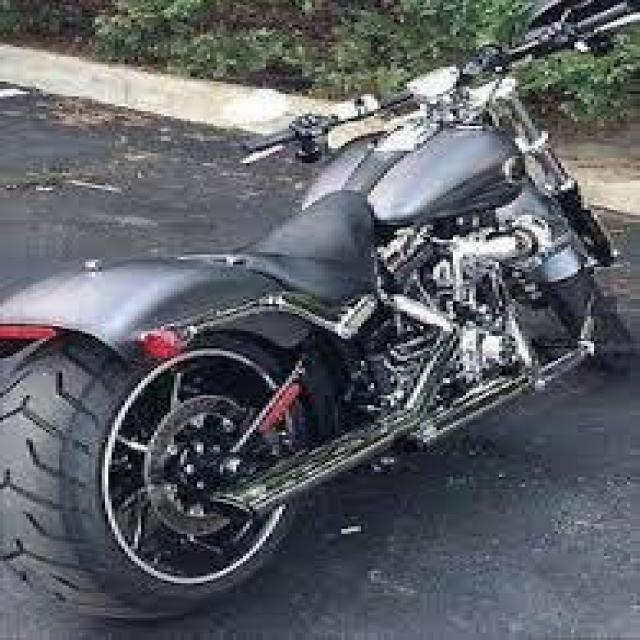MOTORCYCLE: (2, 13, 633, 618)
